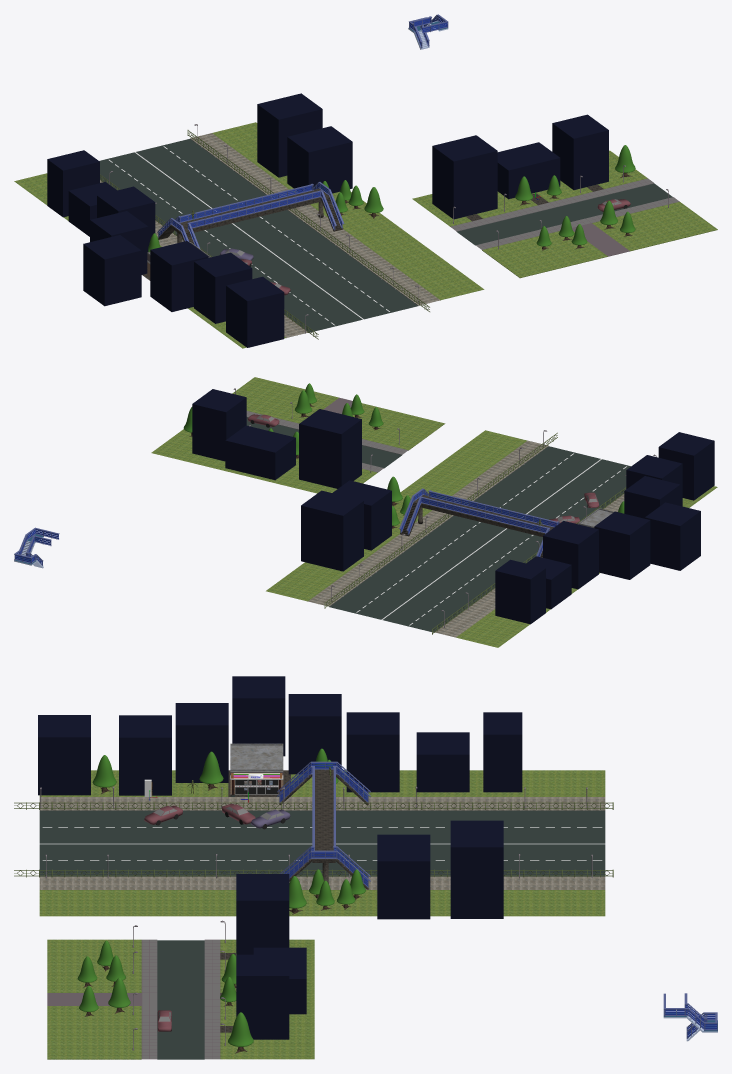
File: city.gltf
3 renders of one model, top to bottom at view 1: azimuth 30°, elevation 25°; view 2: azimuth 150°, elevation 25°; view 3: azimuth 270°, elevation 25°, orthographic. The views are drawn at different scales.
Parts seen in each view (by area): view 1: GroundTile.326, House.001, House.005, House.015, House.004, House.002, House.003, House.012, House, House.013, House.008, House.014 (+3 smaller); view 2: GroundTile.326, House.003, House.001, House.014, House.015, House, House.002, House.008, House.006, House.004, House.005, House.012 (+3 smaller); view 3: GroundTile.326, House.003, House.005, House.002, House.004, House.013, House.006, House.001, House.012, House.014, House.015, House.007 (+4 smaller).
Part boxes in pixels (x1,y1,x2,y2): GroundTile.326: [14, 122, 717, 348]; House.001: [432, 135, 497, 219]; House.005: [287, 126, 352, 193]; House.015: [83, 235, 141, 306]; House.004: [226, 276, 284, 347]; House.002: [552, 114, 608, 189]; House.003: [257, 93, 322, 177]; House.012: [150, 241, 208, 311]; House: [497, 142, 560, 199]; House.013: [194, 252, 252, 323]; House.008: [47, 150, 99, 217]; House.014: [90, 211, 148, 274]; GroundTile.326: [151, 377, 717, 647]; House.003: [301, 490, 363, 571]; House.001: [299, 409, 361, 488]; House.014: [594, 511, 650, 579]; House.015: [645, 502, 700, 570]; House: [225, 425, 295, 480]; House.002: [192, 389, 246, 461]; House.008: [495, 559, 545, 624]; House.006: [543, 521, 598, 589]; House.004: [658, 432, 714, 500]; House.005: [332, 480, 391, 550]; House.012: [624, 476, 680, 518]; GroundTile.326: [39, 770, 605, 1059]; House.003: [450, 820, 503, 918]; House.005: [377, 834, 430, 919]; House.002: [236, 954, 289, 1039]; House.004: [38, 715, 90, 795]; House.013: [119, 715, 171, 795]; House.006: [346, 712, 399, 792]; House.001: [236, 874, 289, 954]; House.012: [175, 703, 228, 782]; House.014: [288, 694, 341, 774]; House.015: [232, 676, 285, 756]; House.007: [416, 732, 469, 792].
Size of what is drawn, in the model's own units: 97.94 by 10.88 by 89.59.
Materials: 35 (14 with a texture image).
